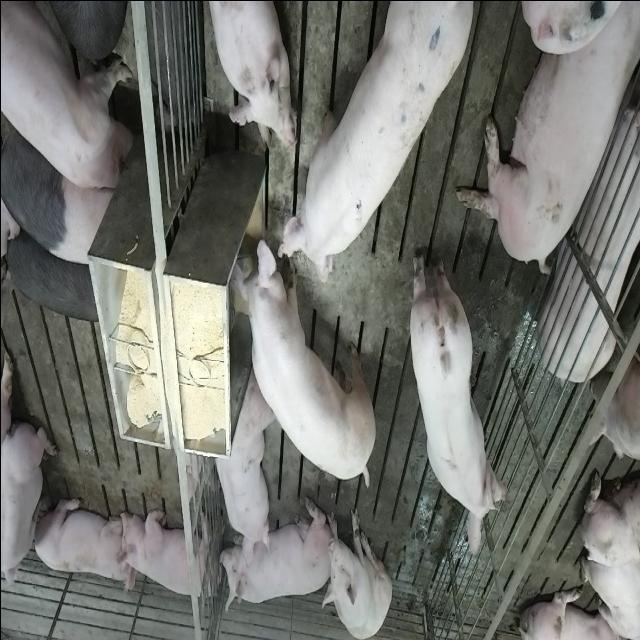Lateral_lying: (452, 4, 636, 278), (538, 95, 640, 382)
Sitting: (322, 503, 391, 637)
Standing: (274, 5, 476, 284), (235, 230, 376, 483), (408, 243, 509, 556), (3, 0, 136, 197), (2, 102, 118, 266), (9, 224, 102, 323)
Sternal_lying: (202, 0, 292, 152), (220, 502, 328, 612), (210, 369, 270, 555), (2, 417, 58, 599), (116, 502, 215, 602), (30, 492, 130, 588)
